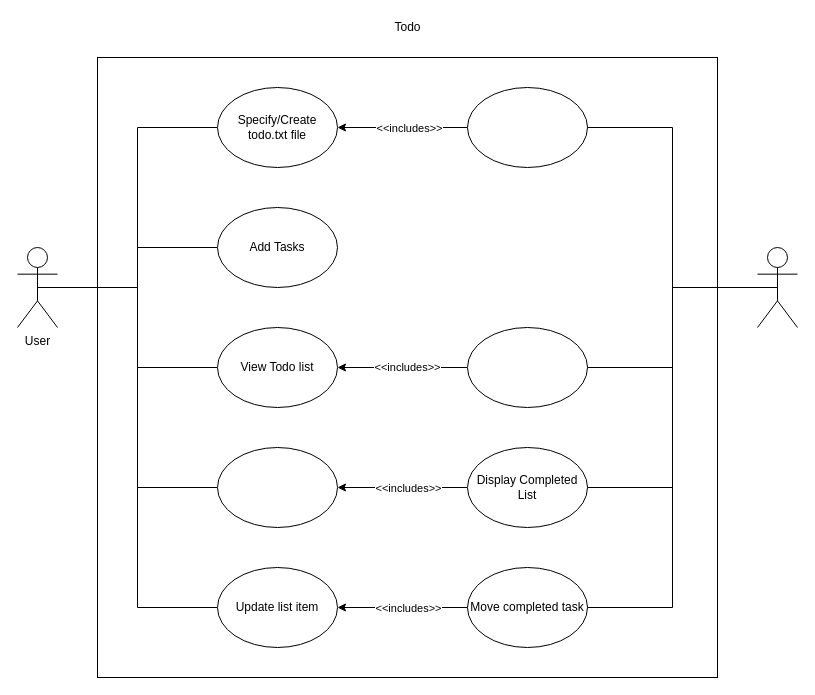
This 815x695 diagram has some shape labels left out. Each missing label, with the centre of its shape:
"Check for existing todo.txt" goes at point 527,127.
"Display Todo list" goes at point 527,367.
"System" goes at point 777,287.
"View completed list" goes at point 277,487.
